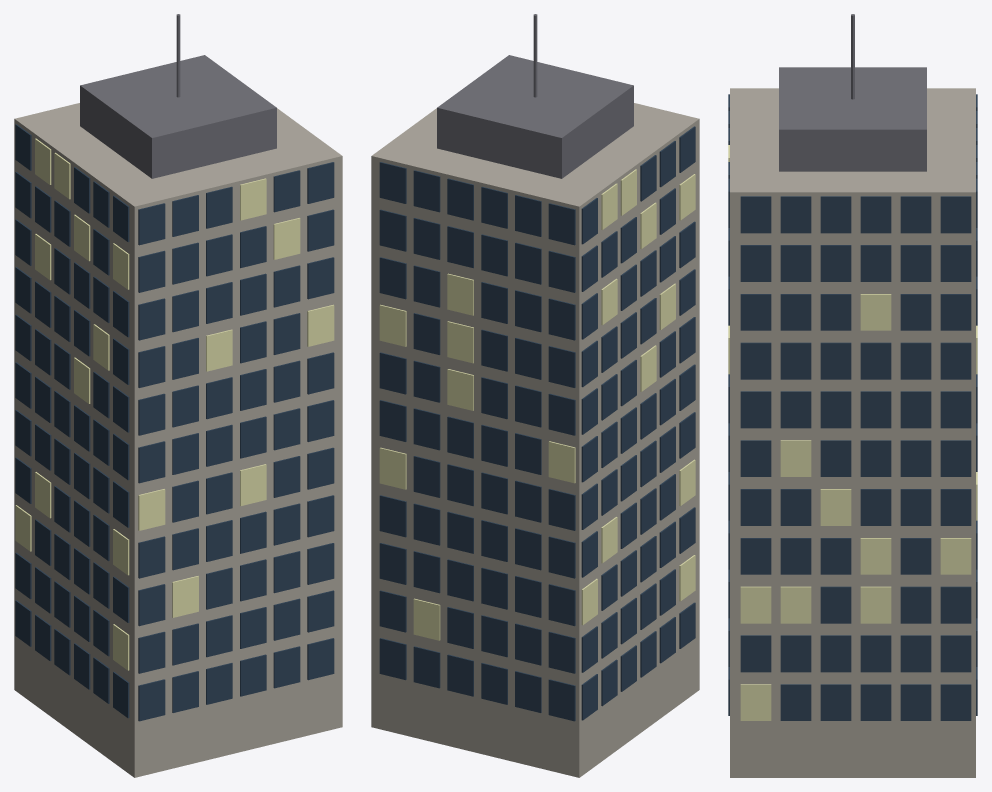
The model's file is building_tower.obj.
The picture shows the model from 3 angles, left to right: view 1: azimuth 30°, elevation 25°; view 2: azimuth 150°, elevation 25°; view 3: azimuth 270°, elevation 25°; orthographic projection. The views are drawn at different scales.
Parts seen in each view (by area): view 1: building_tower; view 2: building_tower; view 3: building_tower.
Boxes of the visible parts, left/top/right/bottom form: building_tower: left=14, top=14, right=342, bottom=777; building_tower: left=371, top=14, right=699, bottom=777; building_tower: left=728, top=14, right=977, bottom=777.
Bounding box in the file's own units: 16.2 × 51 × 16.2.
